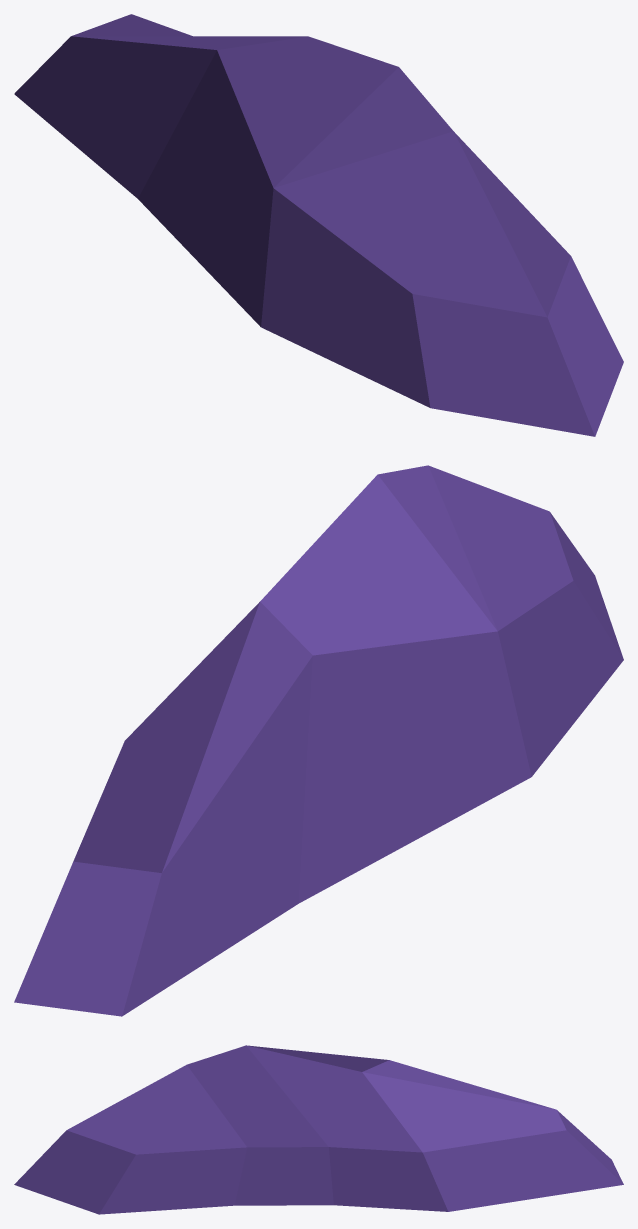
File: rock.fbx
3 views of the same model, one above another, from view 1: azimuth 30°, elevation 25°; view 2: azimuth 150°, elevation 25°; view 3: azimuth 270°, elevation 25° (orthographic). The views are drawn at different scales.
Visible parts, largest first — view 1: Vert; view 2: Vert; view 3: Vert.
Boxes of the visible parts, x1,y1,x2,y2 form: Vert: (14,14,623,436); Vert: (14,465,623,1016); Vert: (14,1045,623,1214).
Bounding box in the file's own units: 76.68 × 70.85 × 282.
